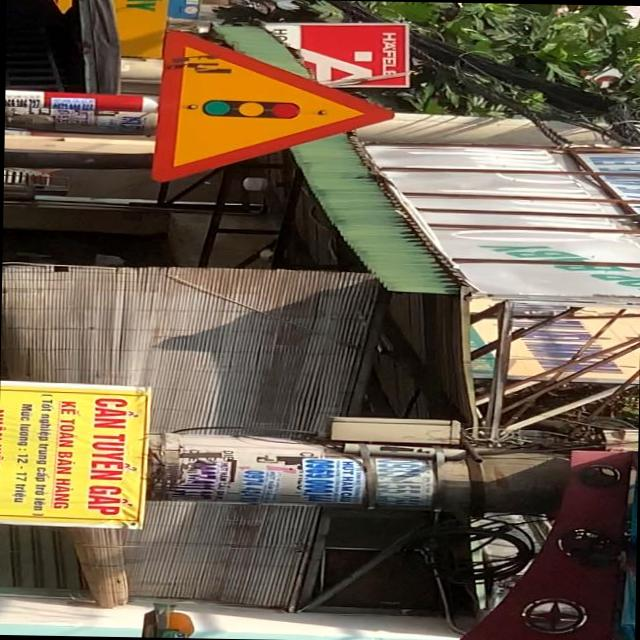W-209: (147, 27, 396, 187)
